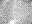person: (9, 19, 14, 23)
